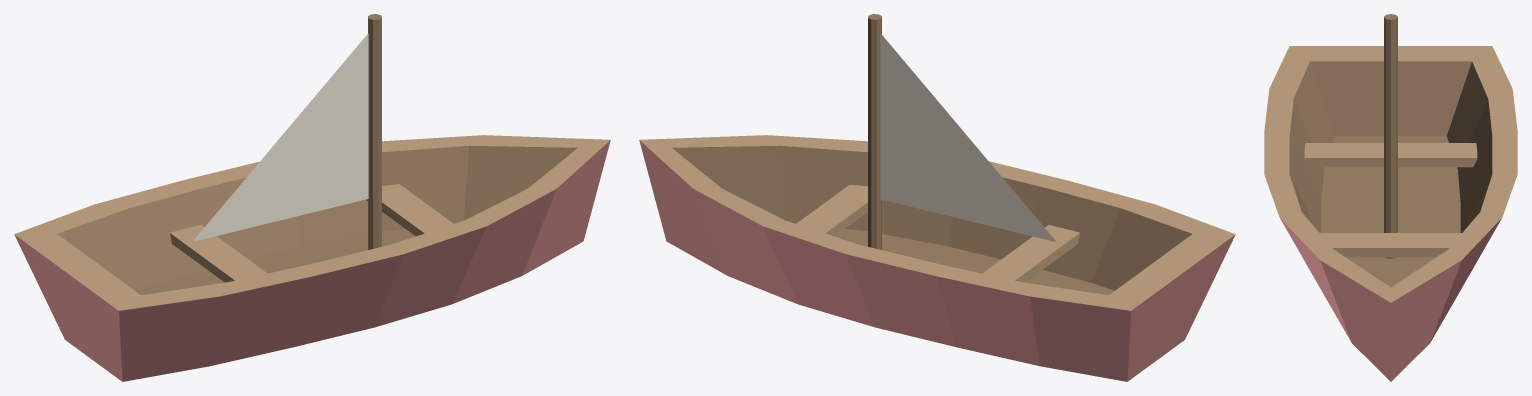
Rendered from Boat.fbx.
3 renders of one model, left to right at view 1: azimuth 30°, elevation 25°; view 2: azimuth 150°, elevation 25°; view 3: azimuth 270°, elevation 25°, orthographic. The views are drawn at different scales.
Parts seen in each view (by area): view 1: Boat_Model; view 2: Boat_Model; view 3: Boat_Model.
Part boxes in pixels (left/top/right/bottom): Boat_Model: left=14, top=14, right=610, bottom=381; Boat_Model: left=639, top=14, right=1235, bottom=381; Boat_Model: left=1264, top=14, right=1517, bottom=381.
Size of the model in its own units: 6 by 2.9 by 2.5.
